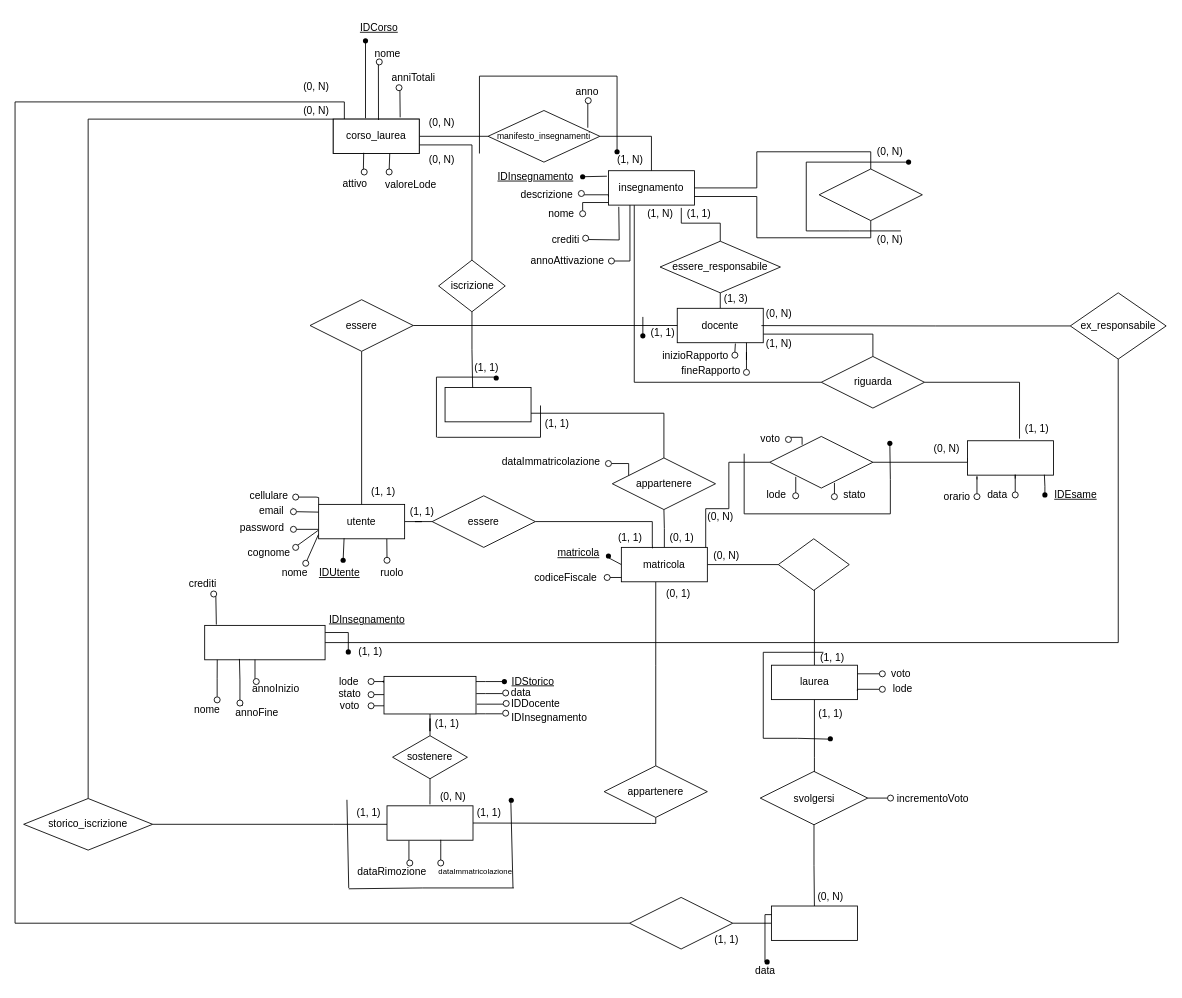
The diagram is 1182 pixels wide and 998 high, and some of its shapes have lost their labels. Each missing label, with the box of its shape:
conseguire: (777, 538, 849, 590)
esame: (967, 440, 1054, 475)
esito: (769, 436, 873, 488)
propedeuticita: (818, 168, 922, 221)
riguardare: (629, 897, 733, 949)
sessione_laurea: (771, 905, 857, 940)
storico_esame: (383, 676, 476, 714)
storico_insegnamento: (204, 625, 325, 660)
storico_studente: (386, 805, 473, 840)
studente: (444, 387, 531, 422)
